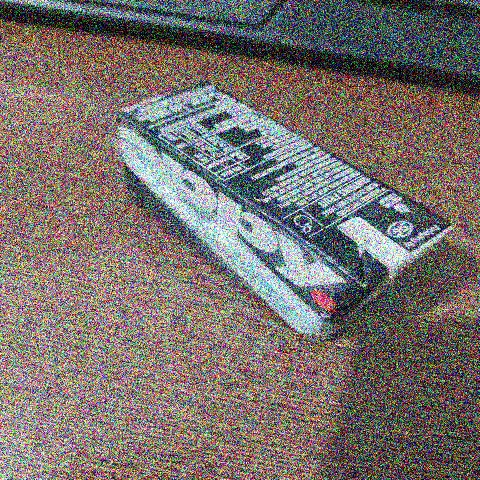appy: (94, 61, 451, 351)
